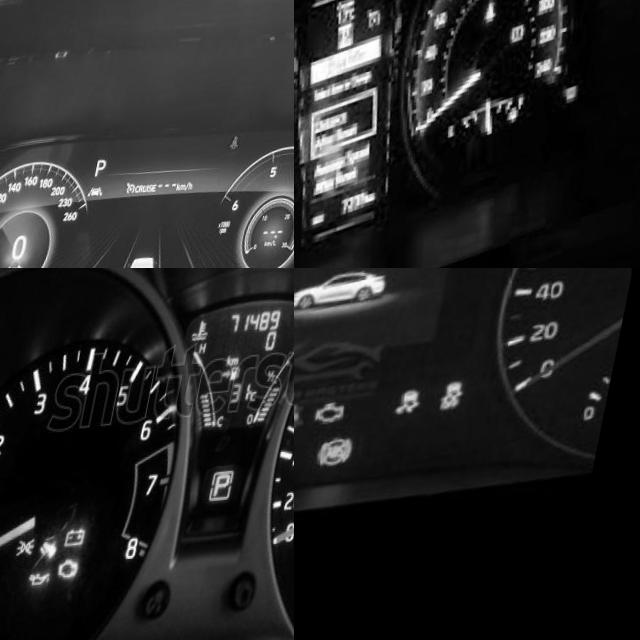LaneCenteringOff: (98, 189, 115, 202)
Seat Belt: (490, 9, 506, 34)
